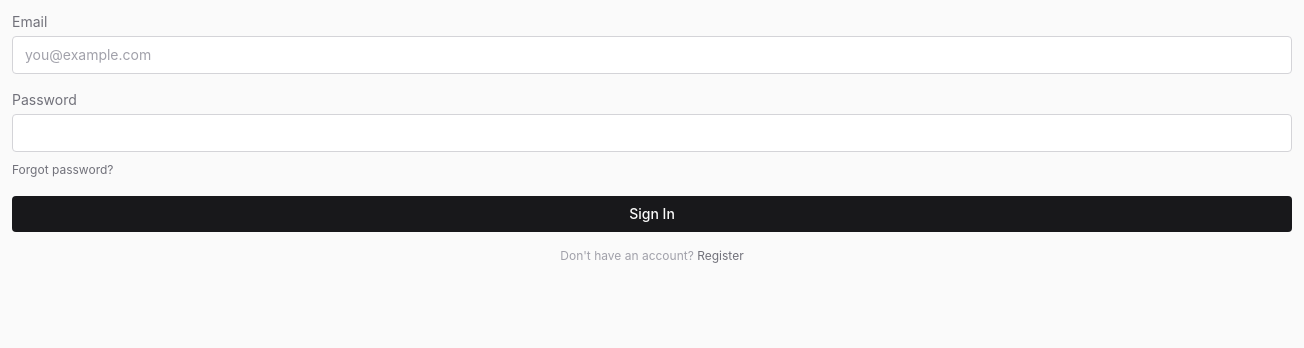
Test: LoginForm › offers to resend the confirmation email when the account is unconfirmed
In the field labelled "Email": [652, 55] box top-left (12, 36), bottom-right (1292, 74), type "me@example.com"
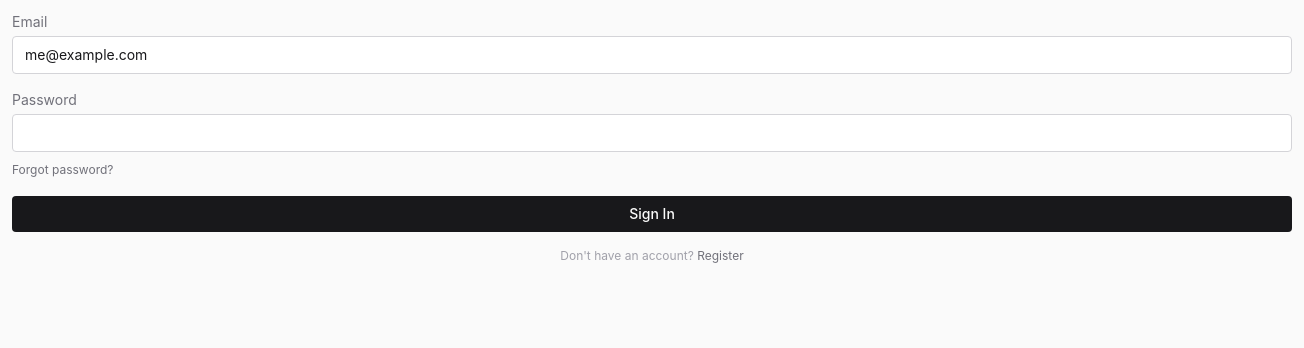
In the password field labelled "Password": [652, 133] box top-left (12, 114), bottom-right (1292, 152), type "secret123"
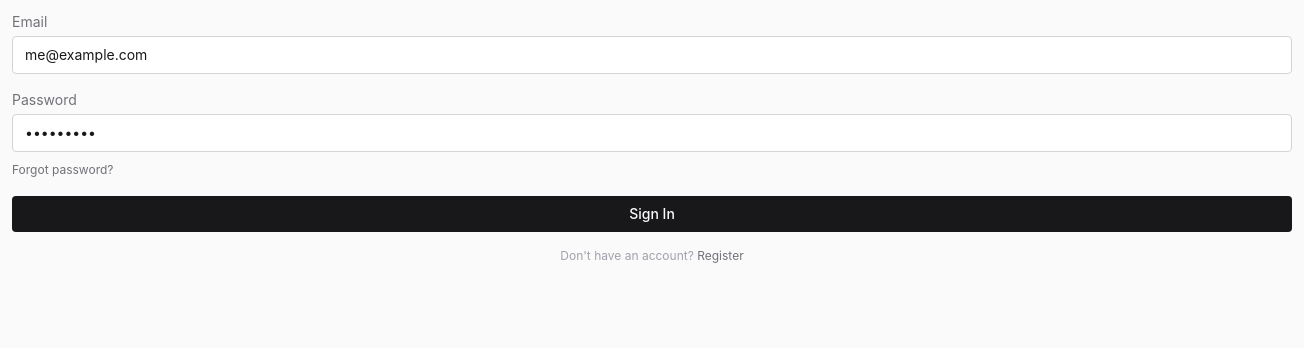
Click the button "Sign In": [652, 214] box top-left (12, 196), bottom-right (1292, 232)
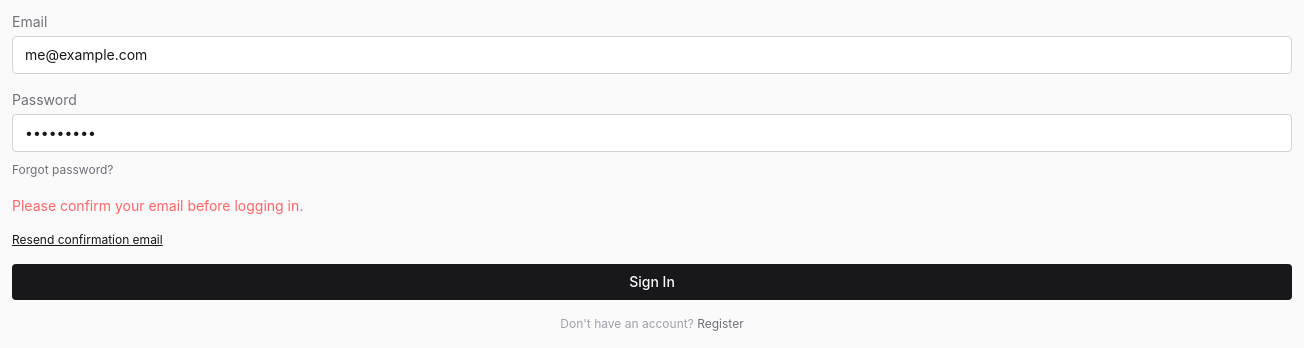
Click the button "Resend confirmation email": [87, 240] box top-left (12, 232), bottom-right (163, 248)
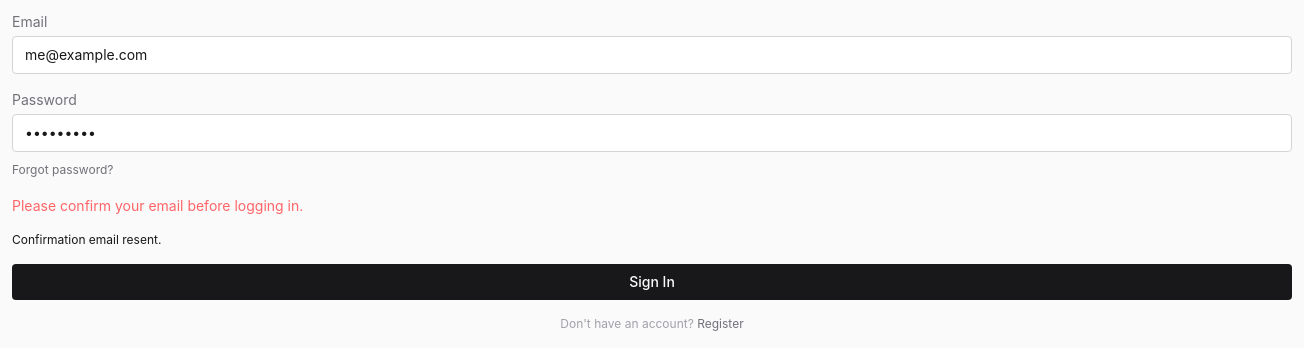
Now the text "Confirmation email resent." is shown, box top-left (12, 232), bottom-right (161, 247)
